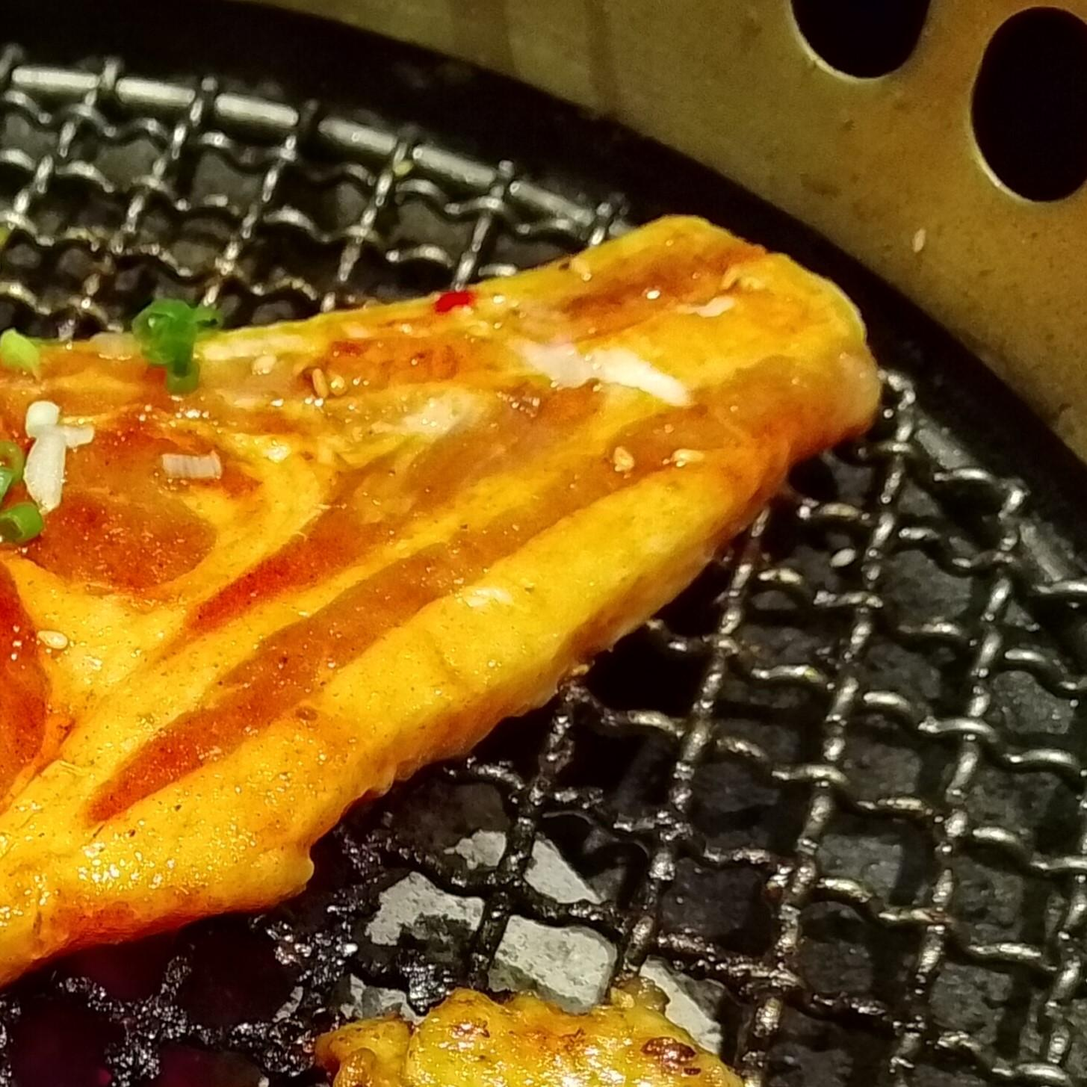Undercooked: (0, 214, 883, 972)
